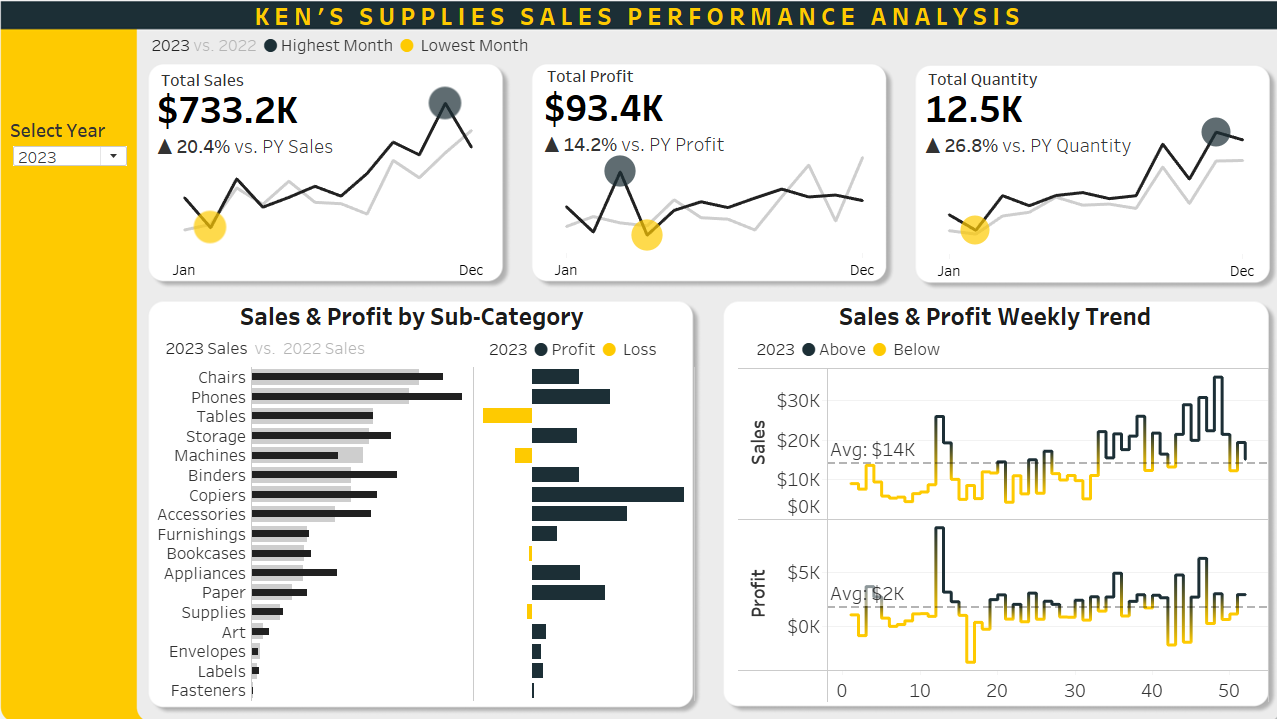

What the dashboard file says about the page in this screenshot:
{"tool":"tableau","page":{"name":"Dashboard","canvas":[1324,745],"ordinal":0},"visuals":[{"type":"image","param":"Image/DASHBOARD bg.png","box":[8,8,1308,729]},{"type":"text","box":[267,8,782,39]},{"type":"worksheet","title":"KPI Legend","mark":"Automatic","box":[168,45,395,23]},{"type":"text","box":[564,73,100,30]},{"type":"text","box":[945,76,133,30]},{"type":"text","box":[178,77,100,30]},{"type":"worksheet","title":"Profit KPI","mark":"Automatic","rows":["Min/Max Sales (copy)_167196155694956547"],"cols":["Order Date"],"box":[561,90,237,89]},{"type":"worksheet","title":"Sales KPI Viz","mark":"Automatic","rows":["Calculation_167196155694292994"],"cols":["Order Date"],"box":[179,91,339,204]},{"type":"worksheet","title":"Quantity KPI","mark":"Automatic","rows":["Min/Max Sales (copy)_167196155695226884"],"cols":["Order Date"],"box":[942,91,261,84]},{"type":"worksheet","title":"Sales KPI","mark":"Automatic","rows":["Calculation_167196155694292994"],"cols":["Order Date"],"box":[174,92,277,86]},{"type":"worksheet","title":"Quantity KPI Viz","mark":"Automatic","rows":["Min/Max Sales (copy)_167196155695226884"],"cols":["Order Date"],"box":[943,123,347,173]},{"type":"parameter","param":"[Parameters].[Parameter 1]","box":[31,129,120,52]},{"type":"worksheet","title":"Profit KPI Viz","mark":"Automatic","rows":["Min/Max Sales (copy)_167196155694956547"],"cols":["Order Date"],"box":[560,163,350,132]},{"type":"text","box":[257,311,352,33]},{"type":"text","box":[856,311,332,33]},{"type":"worksheet","title":"Sub-Category Legend","mark":"Automatic","box":[182,346,235,28]},{"type":"worksheet","title":"Profit & Loss Legend","mark":"Automatic","box":[506,347,216,28]},{"type":"worksheet","title":"Weekly Trend Legend","mark":"Automatic","box":[773,348,227,26]},{"type":"worksheet","title":"Subcategory Comparison","mark":"Bar","rows":["Sub-Category"],"cols":["CY Sales (copy)_1271141014029459458","Calculation_1271141014016434176","CY Sales (copy)_1271141014067011589"],"box":[172,379,544,334]},{"type":"worksheet","title":"Weekly Trend","mark":"Automatic","rows":["Calculation_1271141014016434176","CY Sales (copy)_1271141014067011589"],"cols":["Order Date"],"box":[759,380,531,335]}]}

Visuals, with their boxes in screenshot pixels (x1, y1, x2, y2), scaled from the page's 1324x745 canvas onto the 1277x719 screenshot:
image: bbox=[8, 8, 1269, 711]
text: bbox=[258, 8, 1012, 45]
"KPI Legend" worksheet: bbox=[162, 43, 543, 66]
text: bbox=[544, 70, 640, 99]
text: bbox=[911, 73, 1040, 102]
text: bbox=[172, 74, 268, 103]
"Profit KPI" worksheet: bbox=[541, 87, 770, 173]
"Sales KPI Viz" worksheet: bbox=[173, 88, 500, 285]
"Quantity KPI" worksheet: bbox=[909, 88, 1160, 169]
"Sales KPI" worksheet: bbox=[168, 89, 435, 172]
"Quantity KPI Viz" worksheet: bbox=[910, 119, 1244, 286]
parameter: bbox=[30, 124, 146, 175]
"Profit KPI Viz" worksheet: bbox=[540, 157, 878, 285]
text: bbox=[248, 300, 587, 332]
text: bbox=[826, 300, 1146, 332]
"Sub-Category Legend" worksheet: bbox=[176, 334, 402, 361]
"Profit & Loss Legend" worksheet: bbox=[488, 335, 696, 362]
"Weekly Trend Legend" worksheet: bbox=[746, 336, 965, 361]
"Subcategory Comparison" worksheet (Bar marks): bbox=[166, 366, 691, 688]
"Weekly Trend" worksheet: bbox=[732, 367, 1244, 690]
